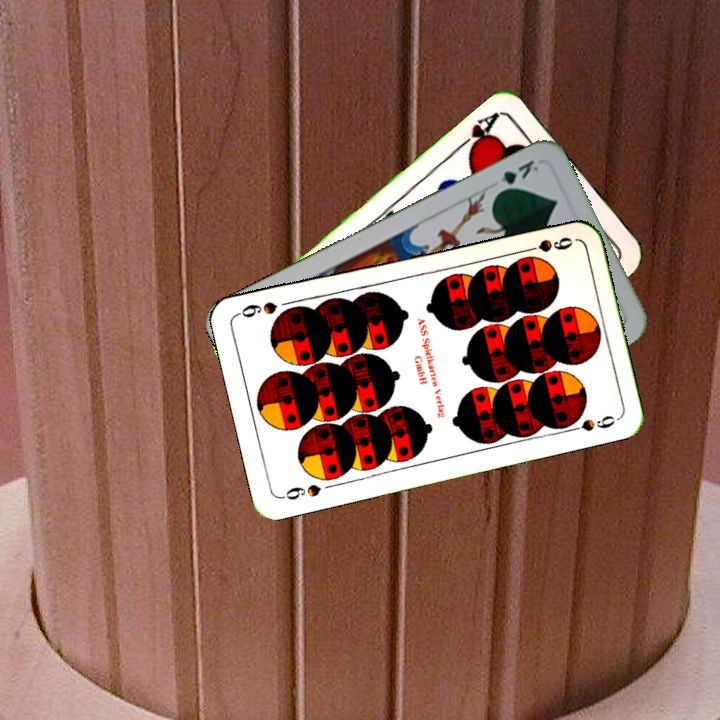GK: (491, 155, 541, 197)
HA: (452, 108, 501, 158)
S9: (517, 233, 576, 256), (277, 480, 324, 503)
